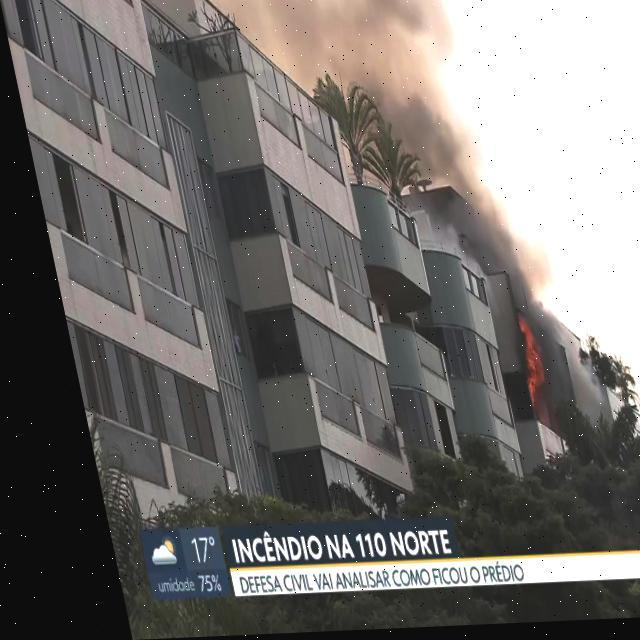Fire: (496, 317, 536, 419)
